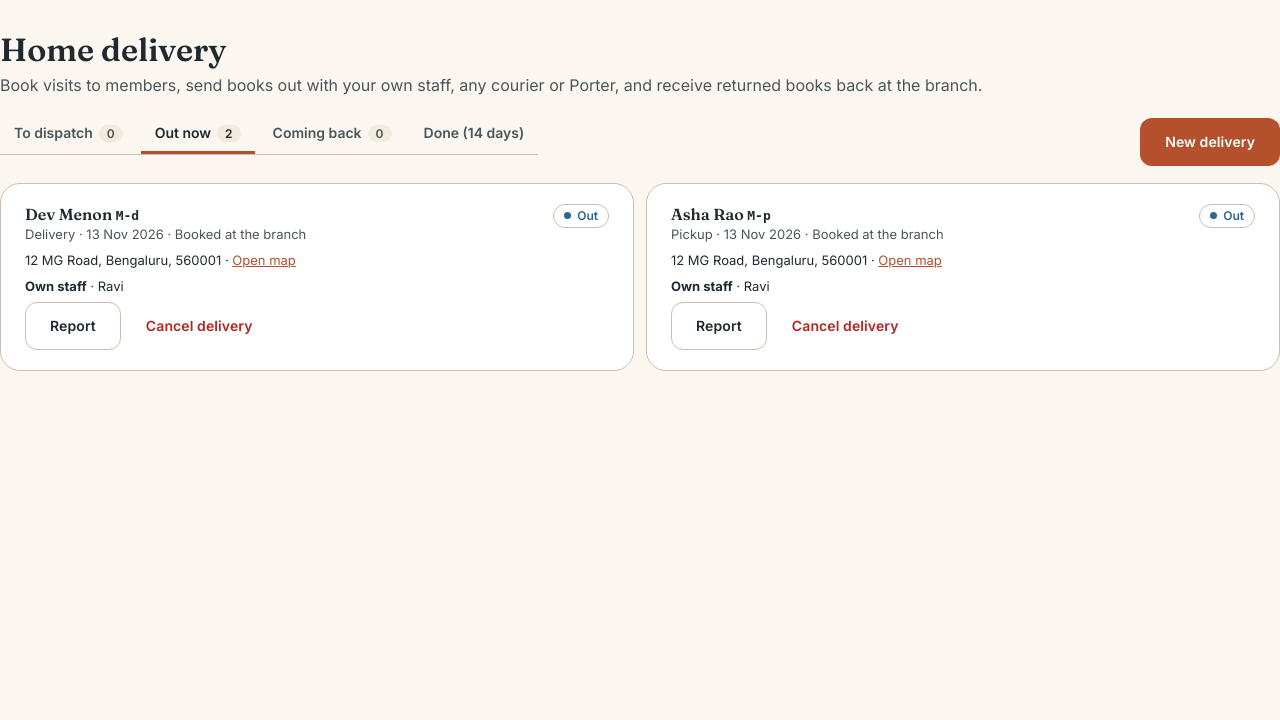
reporting from the board › opens the report of a plain delivery with no read, and of a pickup at once while the member’s books arrive
Click the button "Report" below "Dev Menon": (73, 326) [25,302,121,350]
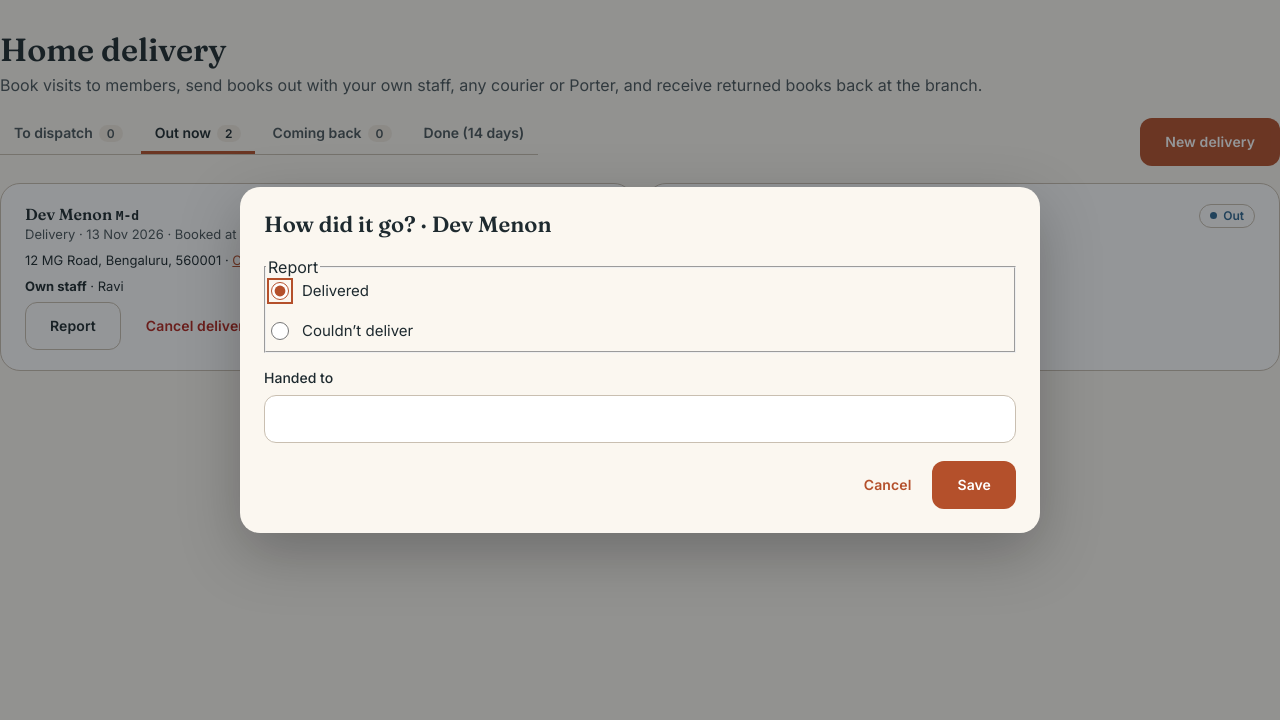
expect the text "Books collected" is not shown: met
expect the field labelled "Handed to" is shown: met, box [264,395,1016,443]
expect the button "Save" is enabled: met, box [932,461,1016,509]
Click the button "Cancel": (888, 485) [851,461,924,509]
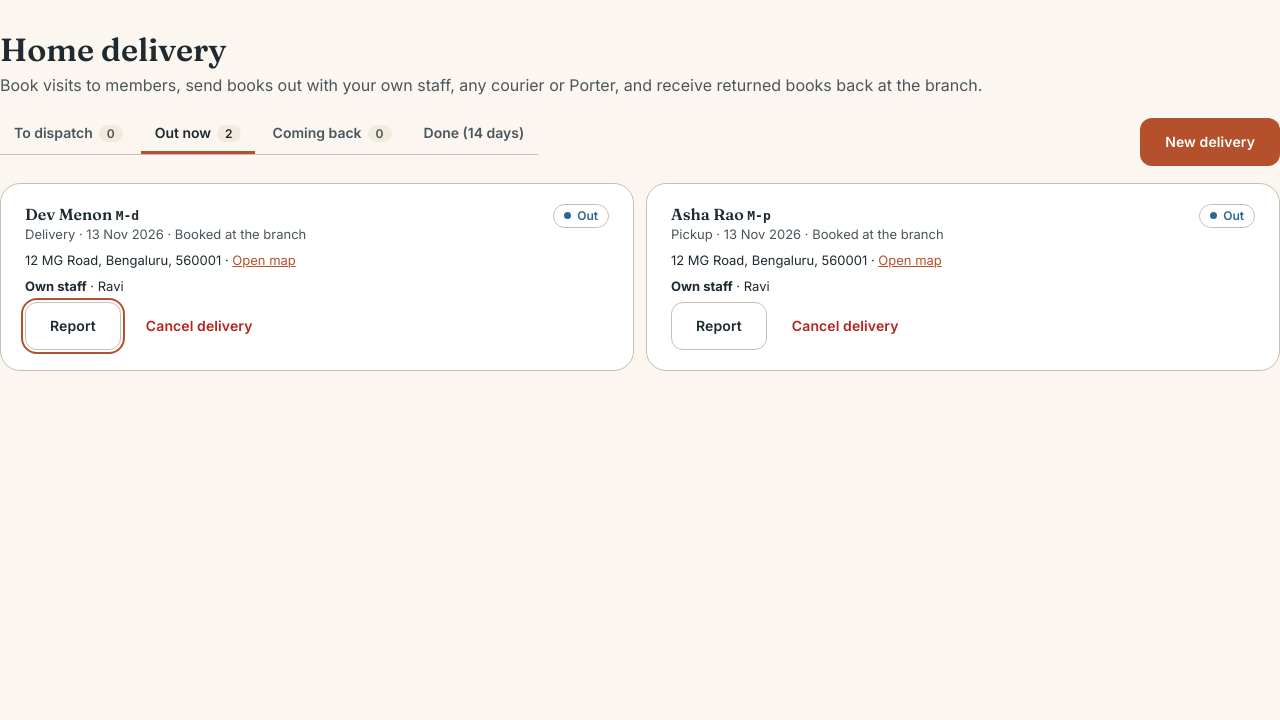
Click the button "Report" below "Asha Rao": (719, 326) [671,302,767,350]
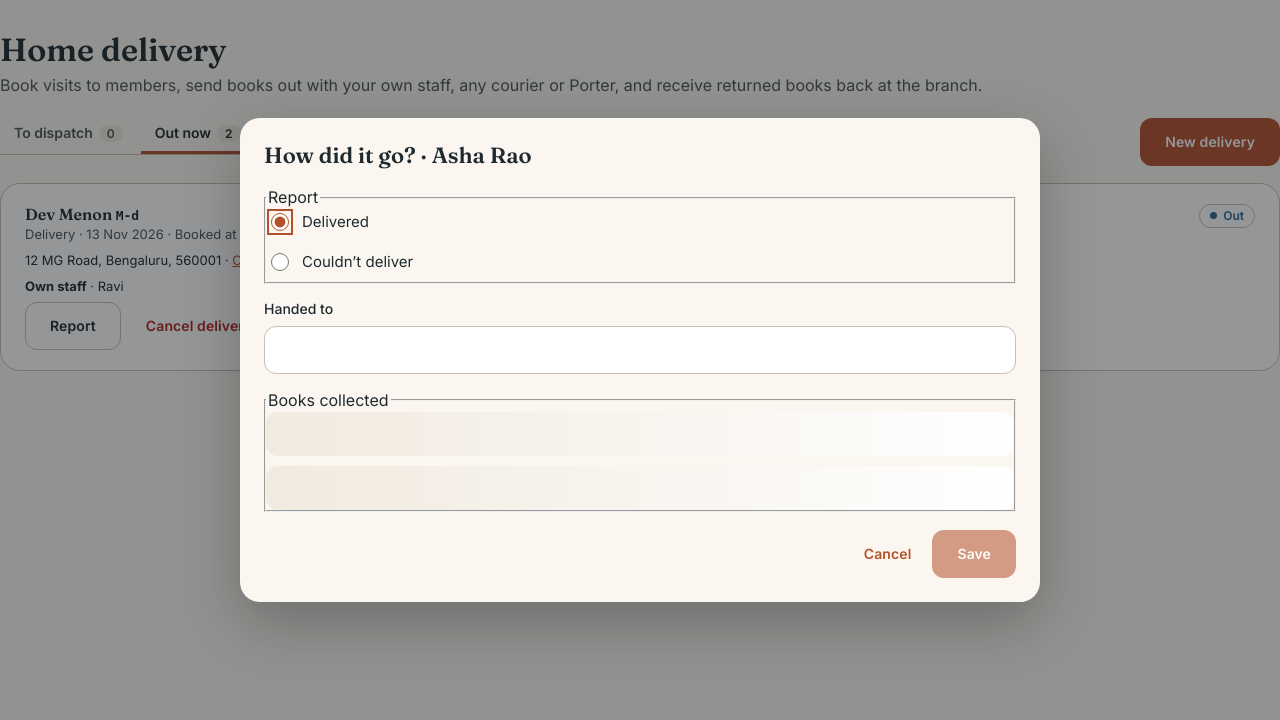
expect the field labelled "Handed to" is shown: met, box [264,326,1016,374]
expect the button "Save" is disabled: met, box [932,530,1016,578]
Click the radio button labelled "Couldn’t deliver": (280, 262) [271,253,289,271]
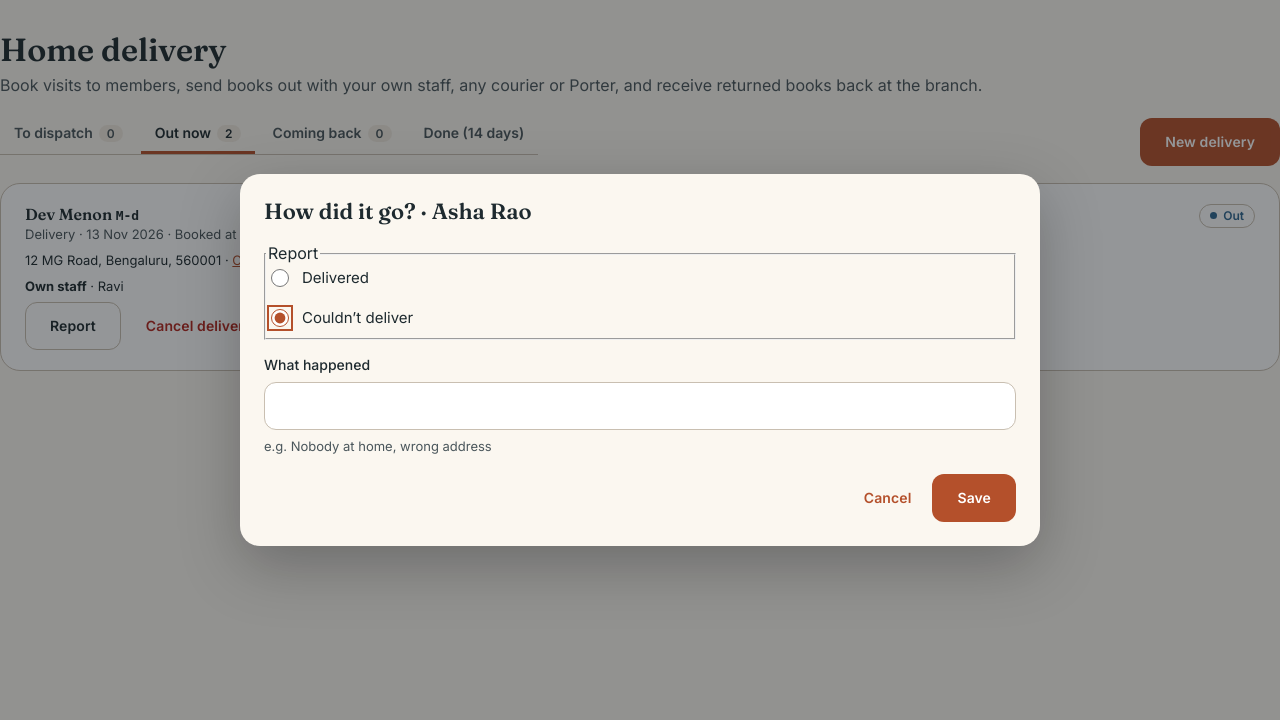
expect the button "Save" is enabled: met, box [932,474,1016,522]
Click the radio button labelled "Delivered": (280, 278) [271,269,289,287]
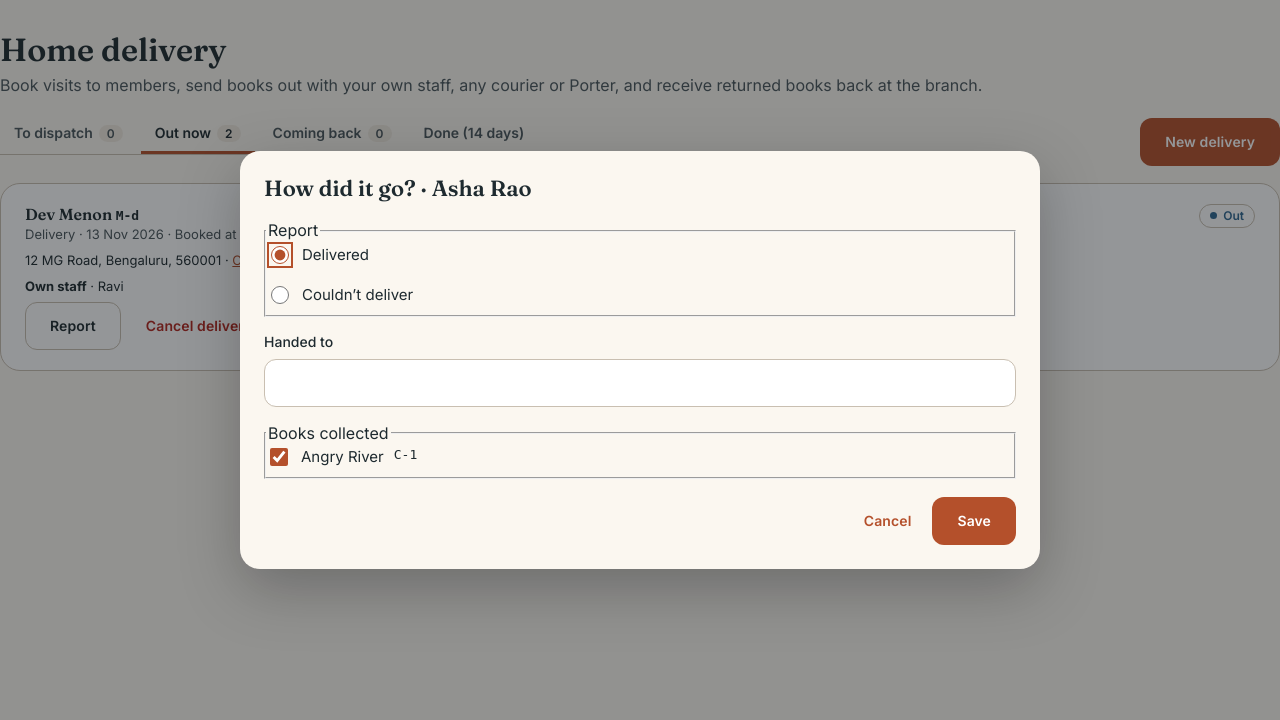
expect the button "Save" is enabled: met, box [932,497,1016,545]
expect the checkbox labelled "Angry River C-1" is checked: met, box [270,448,288,466]
